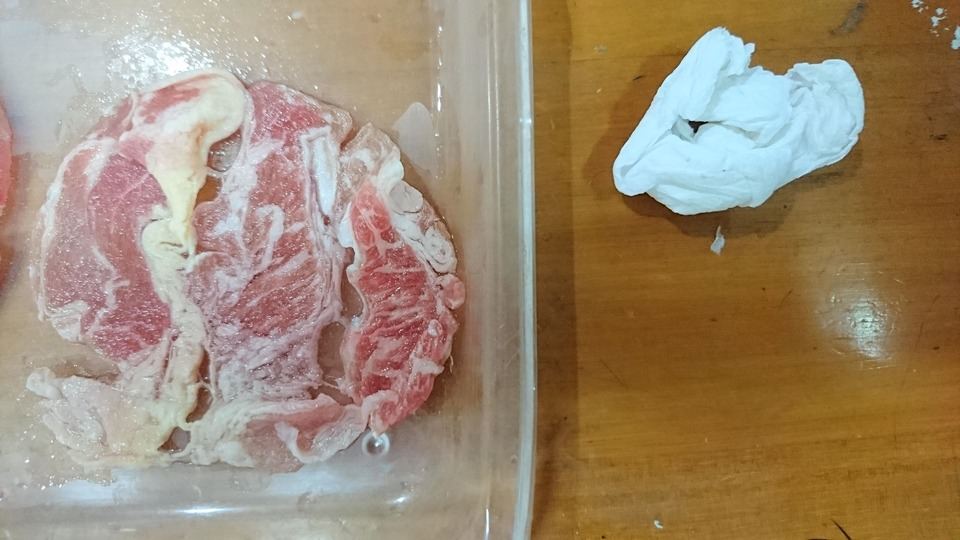restructured meat: (41, 86, 493, 476)
